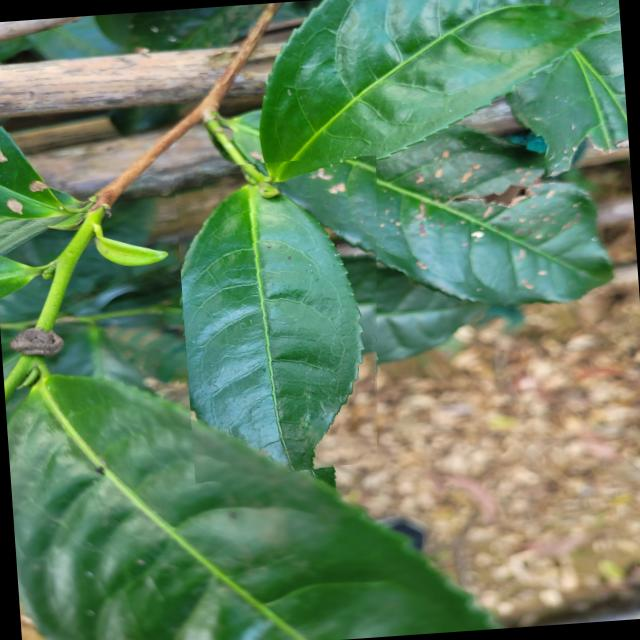Category D(7+ days, Not for Tea): (173, 156, 399, 484)
